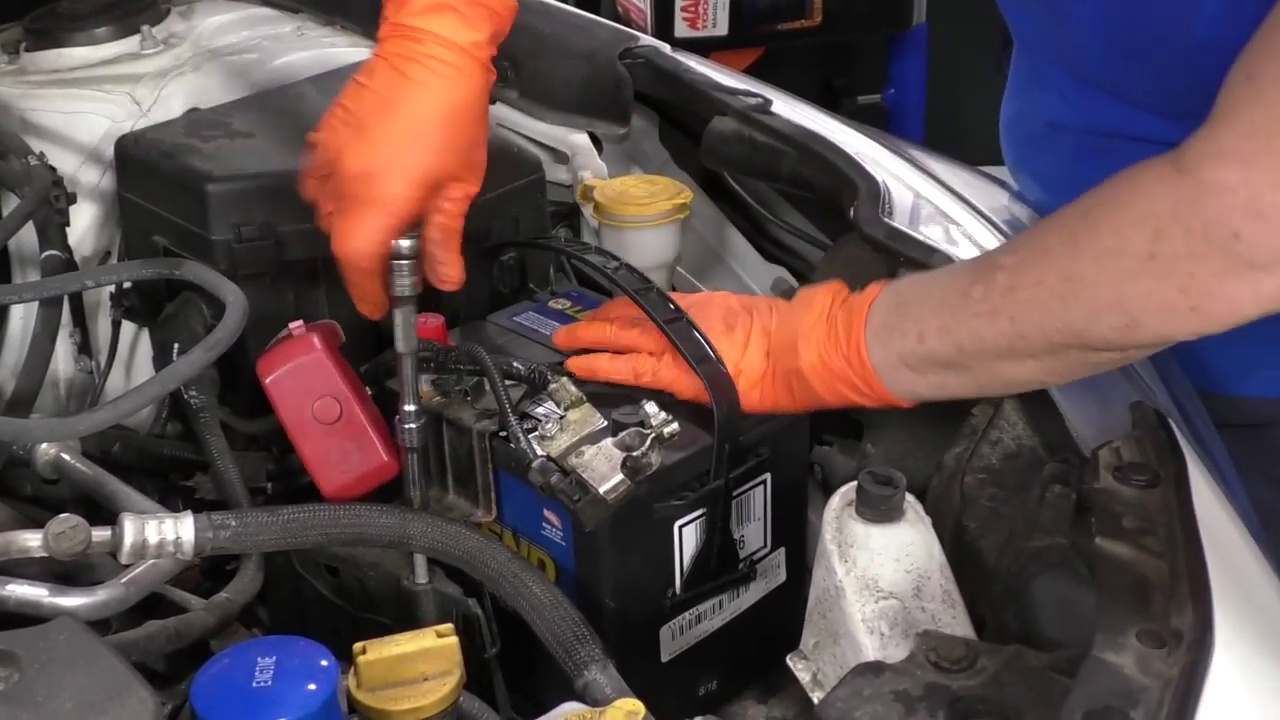battery: (387, 280, 787, 499)
